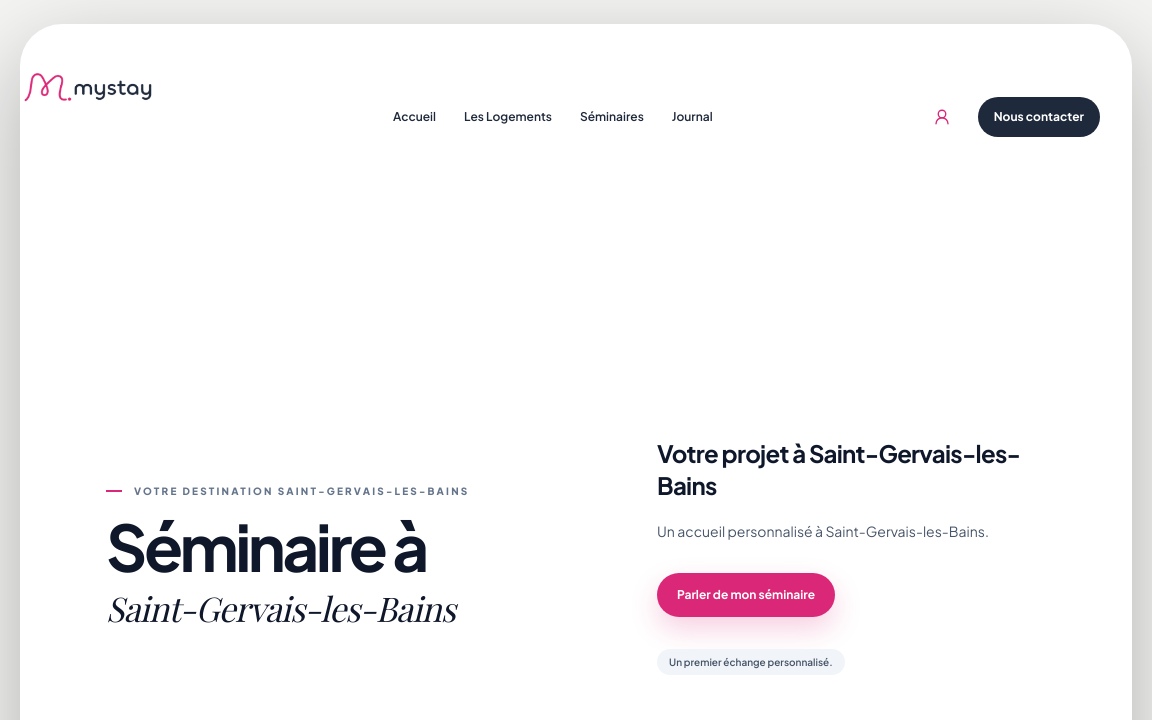
Test: 052 seminar lead modal › AC-01-02: asks for the agreed fields with required markers and consent
The width and height of the screenshot is (1152, 720).
Click the button "Parler de mon séminaire" at x=746, y=594, box [657,572,835,616]
(page scrolled)
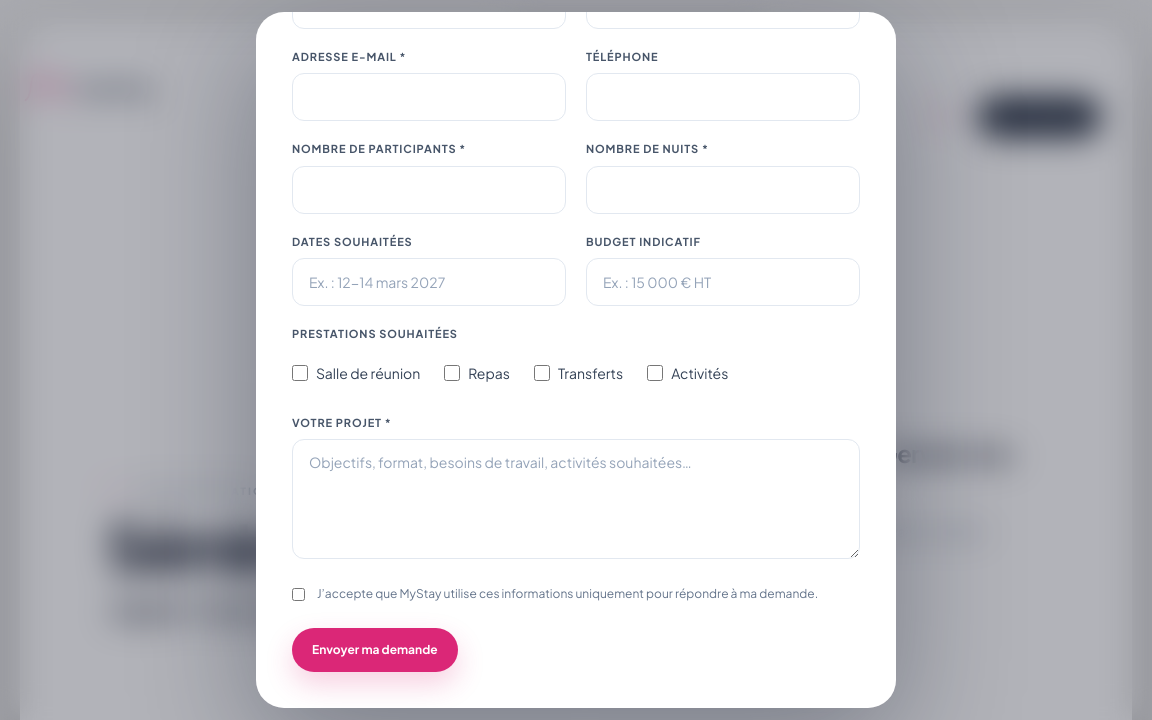
Expected: the button "Envoyer ma demande" is shown, [292,628,458,672]
